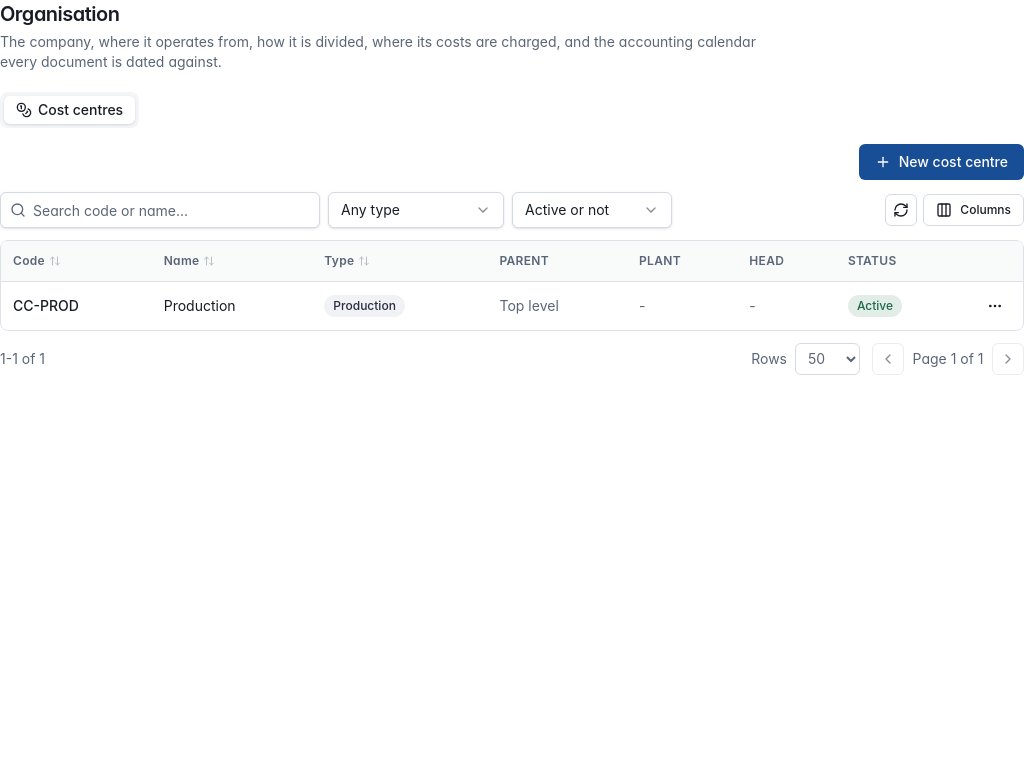
Scenario: creating a cost centre › refuses a centre with no type before anything reaches the network
Click the button "New cost centre" at (941, 162), box left=859, top=144, right=1023, bottom=180
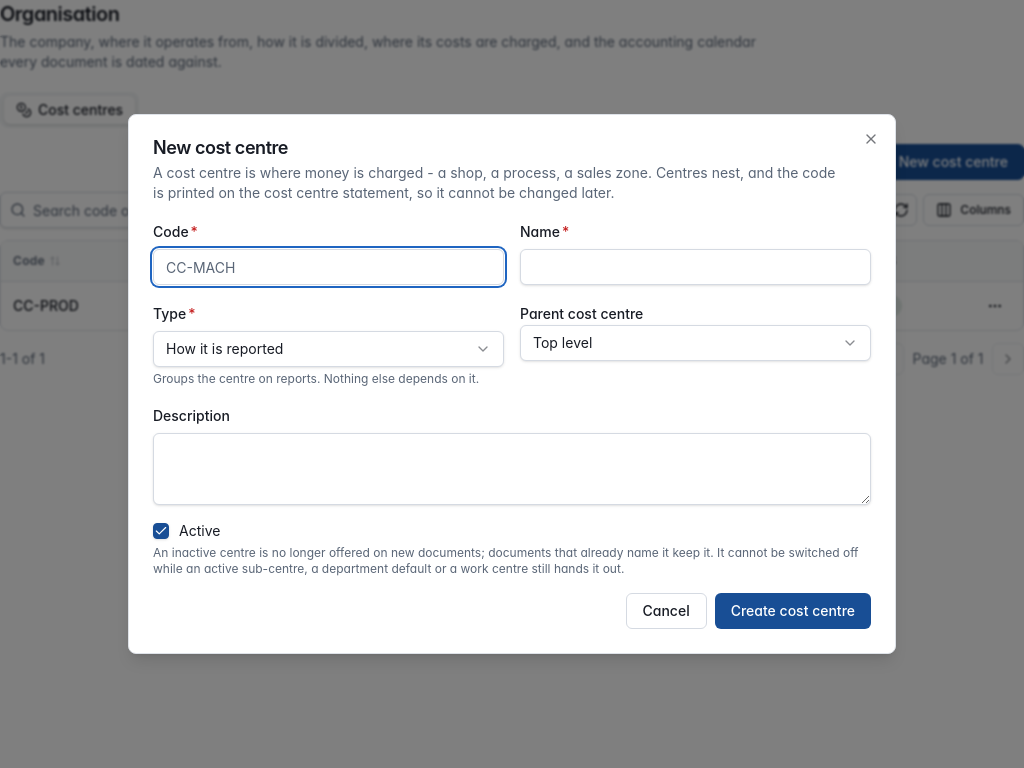
Type "CC-BUFF" into the field labelled "Code" at (328, 267), box left=153, top=249, right=504, bottom=285
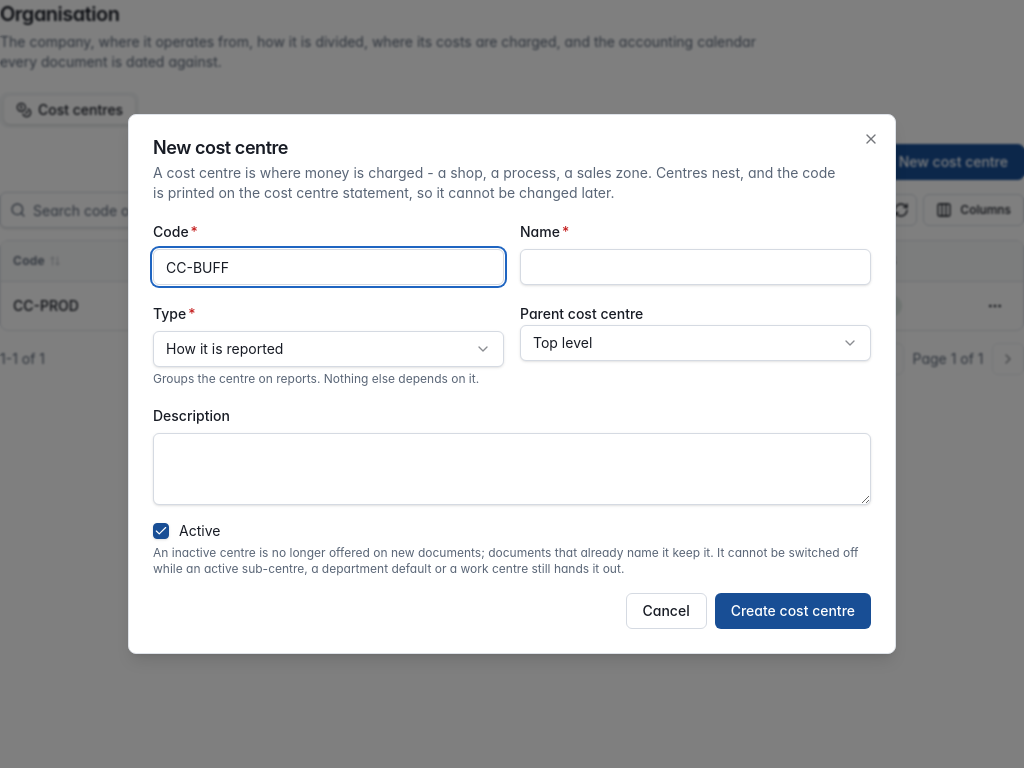
Type "Buffing and polishing" into the field labelled "Name" at (696, 267), box left=520, top=249, right=871, bottom=285
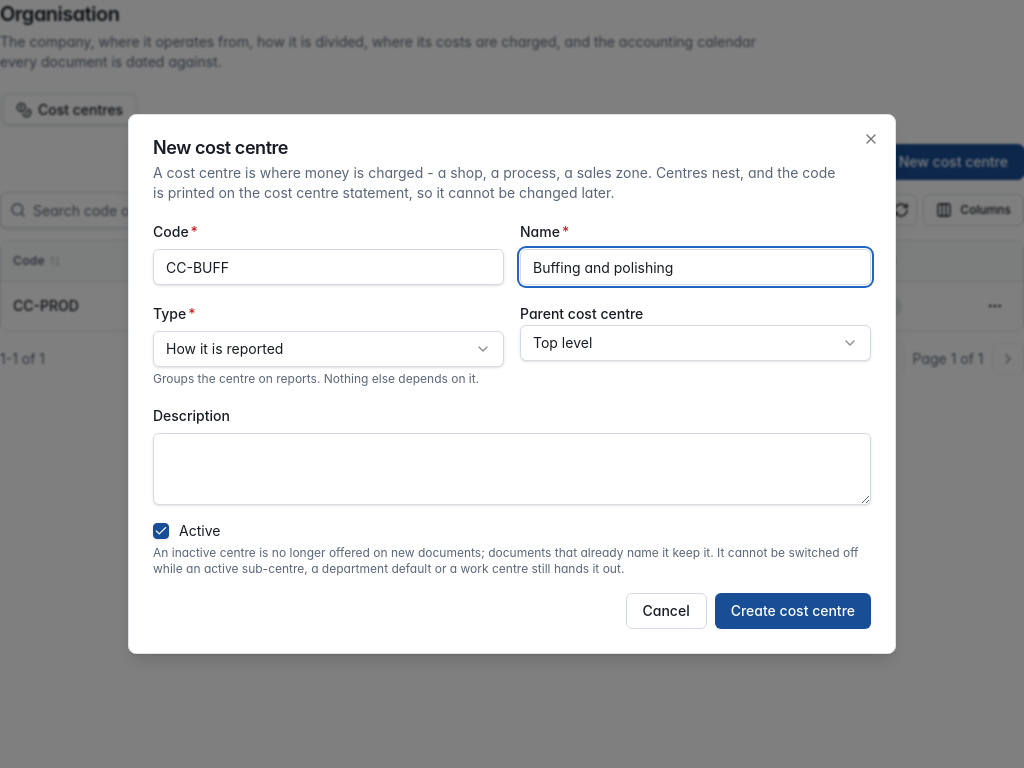
Click the button "Create cost centre" at (793, 611), box left=715, top=593, right=871, bottom=629
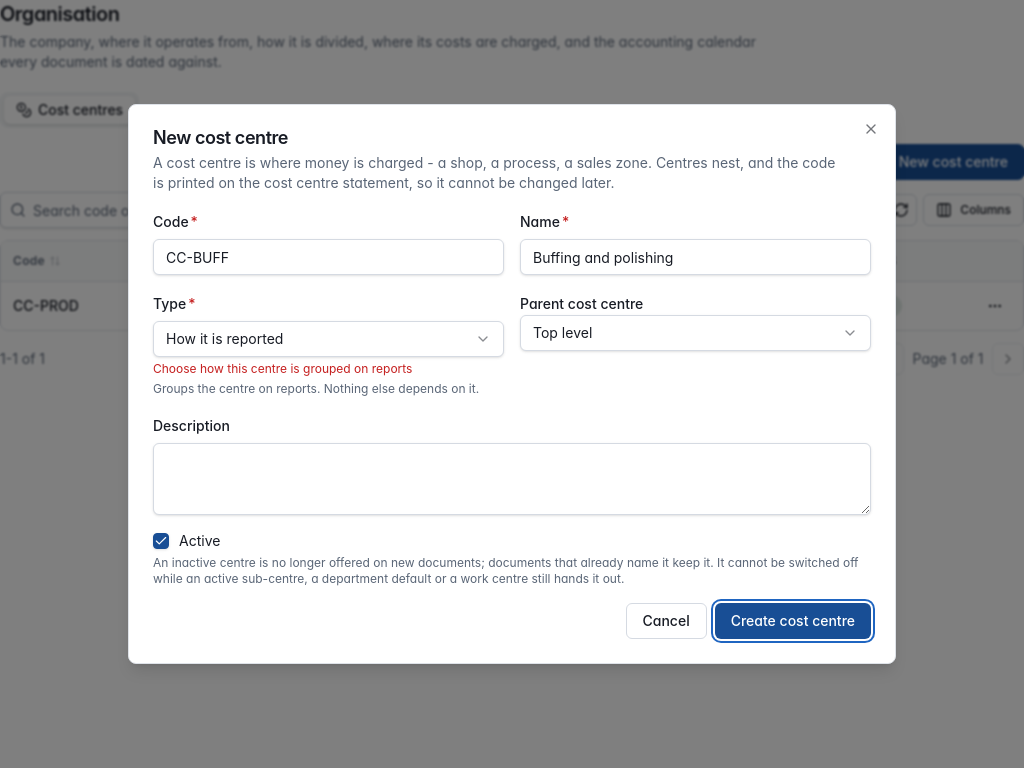
Now the text "Choose how this centre is grouped on reports" is shown, box left=153, top=361, right=412, bottom=376
